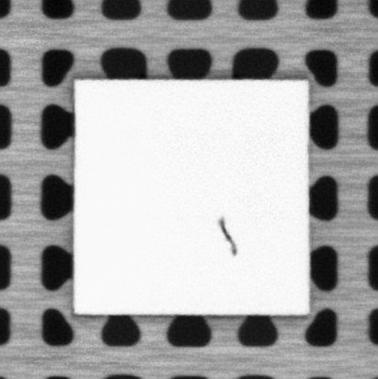DIE_INK: (218, 216, 239, 256)
